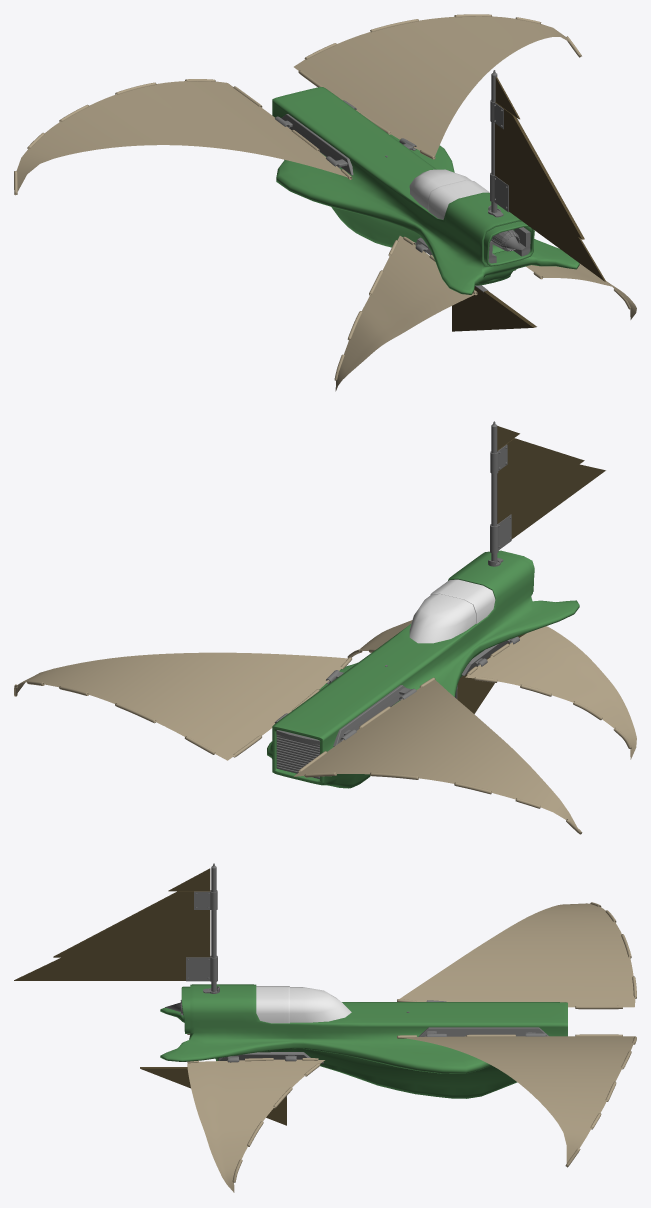
The model's file is SandSailor.fbx.
3 views of the same model, one above another, from view 1: azimuth 30°, elevation 25°; view 2: azimuth 150°, elevation 25°; view 3: azimuth 270°, elevation 25° (orthographic). The views are drawn at different scales.
Parts seen in each view (by area): view 1: ship_body, nurbsToPoly1, nurbsToPoly2, nurbsToPoly3, upper_rutter, lower_rutter, mast, ship_cockpit_back, ship_cockpit, nurbsToPoly4, ship_engine_bay, sail_ft_rt_cloth (+2 smaller); view 2: nurbsToPoly1, ship_body, nurbsToPoly2, nurbsToPoly3, upper_rutter, ship_cockpit, mast, ship_cockpit_back, ship_grill, sail_ft_lft_cloth, lower_rutter, sail_ft_rt_cloth (+2 smaller); view 3: ship_body, nurbsToPoly2, nurbsToPoly1, upper_rutter, nurbsToPoly4, mast, ship_cockpit, ship_cockpit_back, sail_ft_rt_mount, lower_rutter, sail_ft_rt_cloth, sail_bk_rt_cloth (+2 smaller).
Boxes of the visible parts, x1,y1,x2,y2 form: ship_body: (272, 87, 579, 294); nurbsToPoly1: (294, 16, 572, 157); nurbsToPoly2: (16, 81, 347, 191); nurbsToPoly3: (335, 236, 475, 391); upper_rutter: (495, 77, 605, 281); lower_rutter: (452, 286, 536, 331); mast: (490, 70, 508, 212); ship_cockpit_back: (428, 180, 489, 219); ship_cockpit: (409, 169, 471, 209); nurbsToPoly4: (526, 263, 636, 319); ship_engine_bay: (484, 221, 534, 266); sail_ft_rt_cloth: (298, 14, 581, 159); nurbsToPoly1: (16, 652, 347, 760); ship_body: (267, 551, 579, 788); nurbsToPoly2: (294, 679, 577, 827); nurbsToPoly3: (465, 626, 636, 759); upper_rutter: (497, 426, 605, 539); ship_cockpit: (409, 594, 475, 643); mast: (490, 421, 511, 563); ship_cockpit_back: (430, 579, 495, 623); ship_grill: (276, 735, 319, 778); sail_ft_lft_cloth: (298, 677, 582, 834); lower_rutter: (457, 633, 525, 713); sail_ft_rt_cloth: (14, 657, 351, 757); ship_body: (160, 984, 567, 1098); nurbsToPoly2: (400, 903, 635, 1007); nurbsToPoly1: (399, 1036, 634, 1163); upper_rutter: (14, 868, 210, 980); nurbsToPoly4: (187, 1059, 324, 1192); mast: (186, 863, 217, 991); ship_cockpit: (290, 987, 351, 1022); ship_cockpit_back: (256, 986, 289, 1023); sail_ft_rt_mount: (418, 1027, 548, 1036); lower_rutter: (140, 1067, 286, 1125); sail_ft_rt_cloth: (397, 1034, 636, 1167); sail_bk_rt_cloth: (187, 1058, 320, 1182).
Bounding box in the file's own units: 1213 × 602 × 1282.
